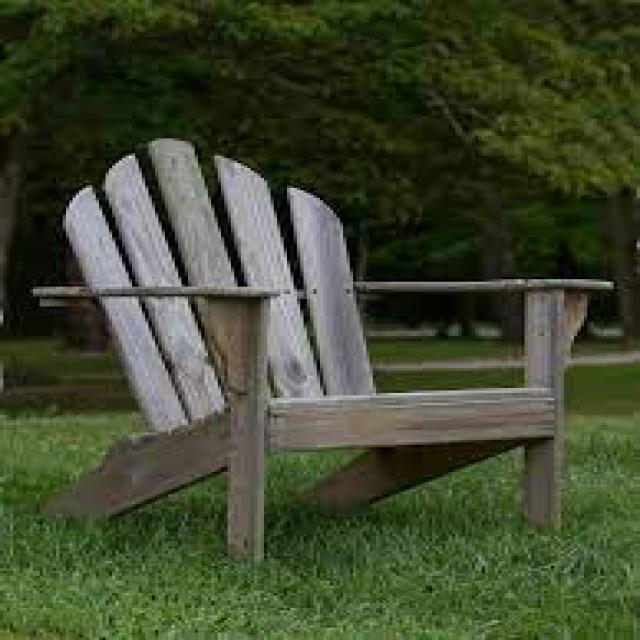chair: (13, 115, 640, 600)
